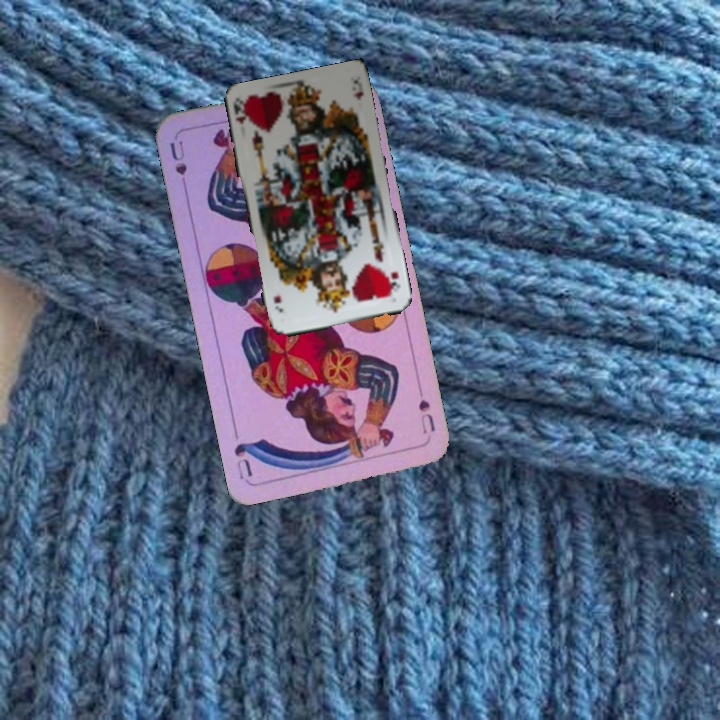HK: (229, 97, 249, 127), (384, 267, 403, 298)
SU: (165, 137, 190, 195), (414, 383, 438, 437)
